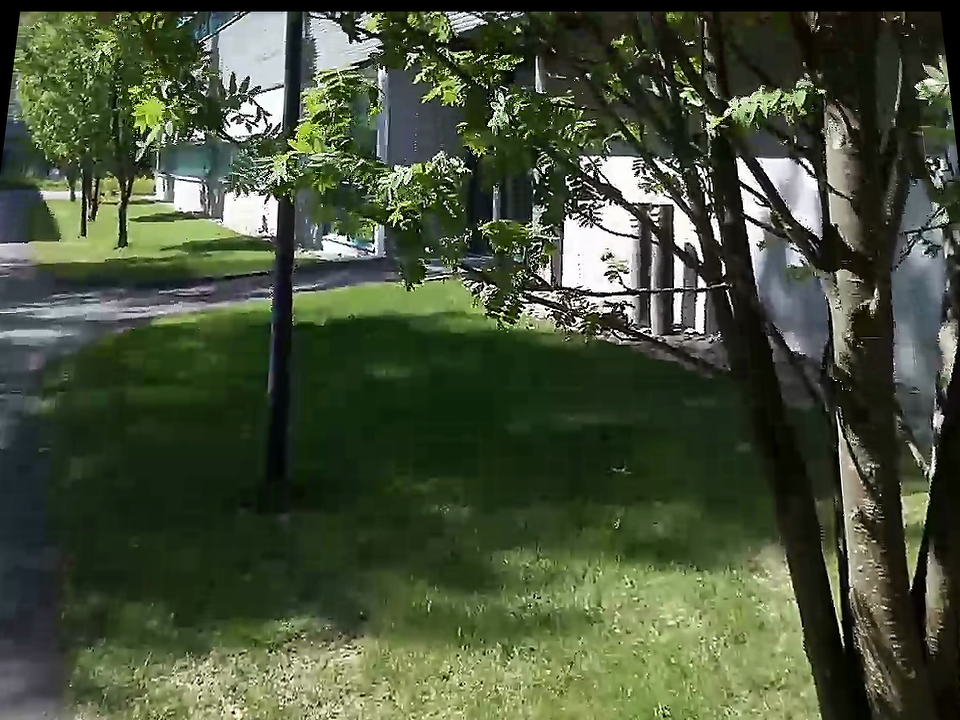trunk: (657, 38, 946, 710), (110, 175, 141, 258)
